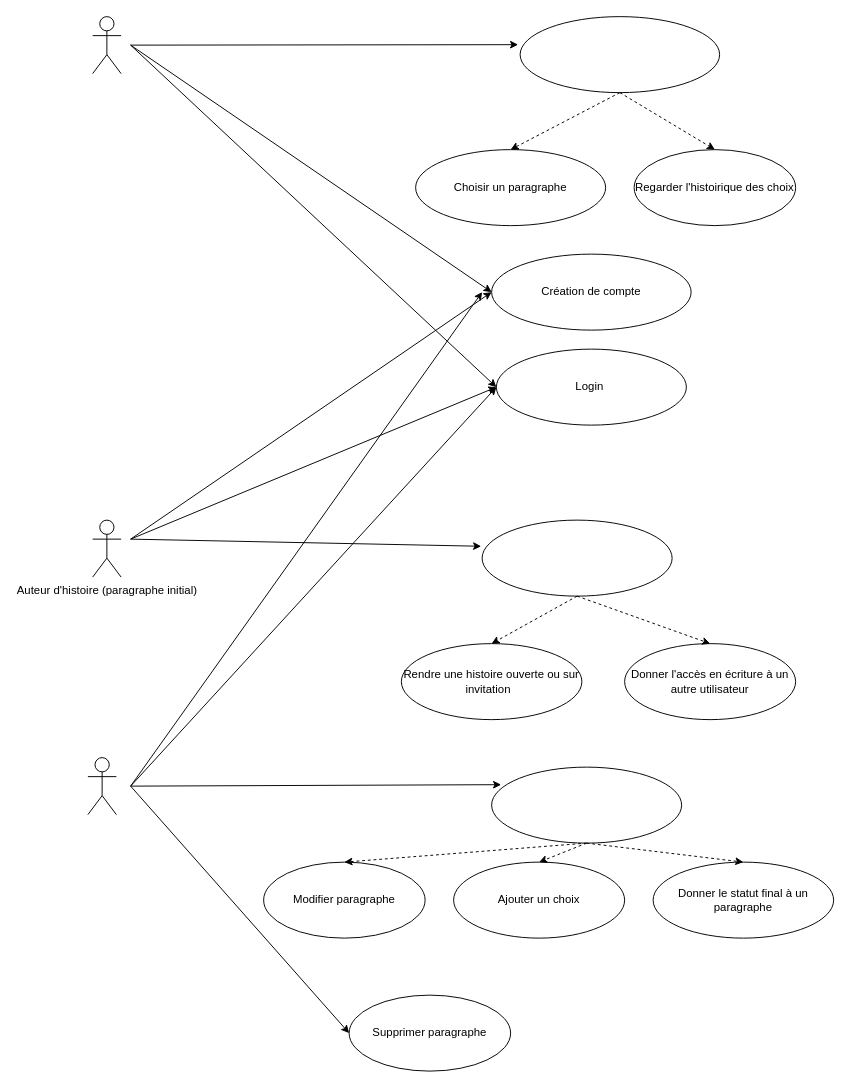
The diagram is 850 pixels wide and 1088 high, and some of its shapes have lost their labels. The centre of each missing label's shape, as x and y in pixels:
"Auteur de paragraphe" goes at (101,786).
"Créer une histoire" goes at (576,557).
"Ecrire un paragaphe" goes at (586,804).
"Lecteur" goes at (106,45).
"Lire une histoire" goes at (619,54).
